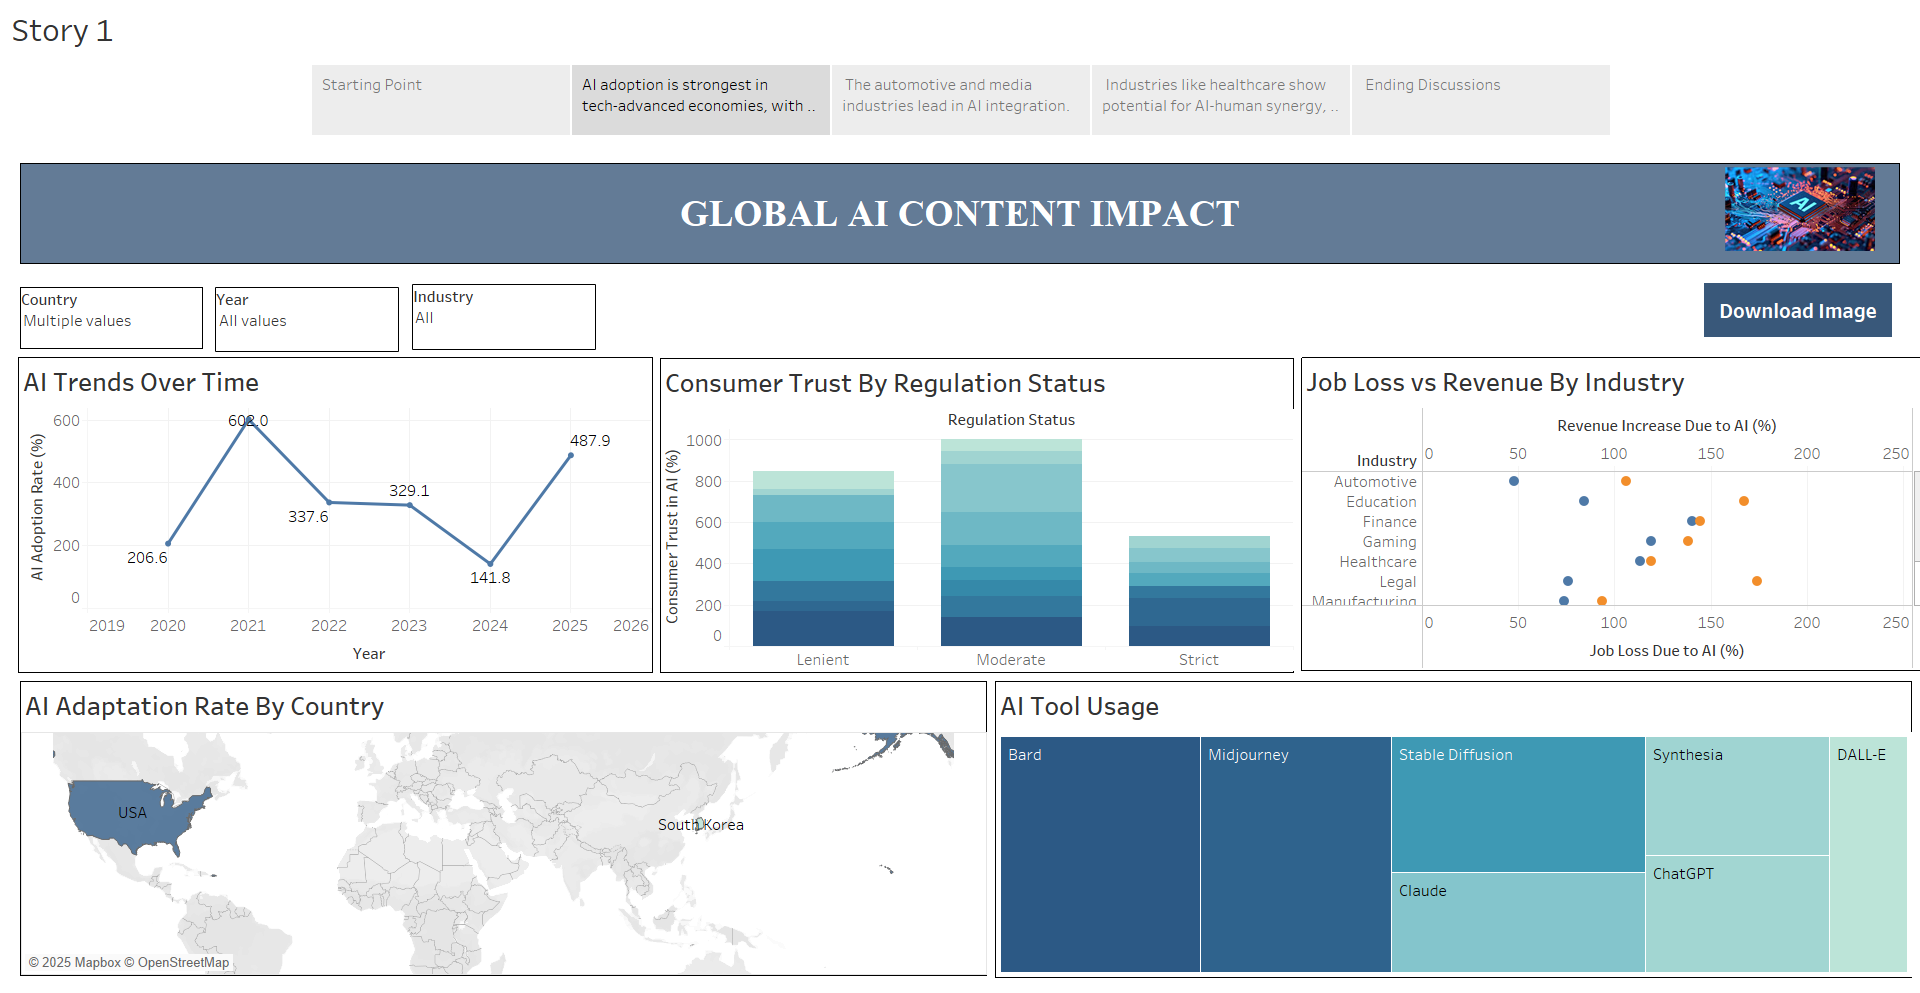

The page's visual inventory and layout, read from the dashboard file:
{"tool":"tableau","page":{"name":"Dashboard 1","canvas":[1000,1000],"units":"permille","ordinal":0},"visuals":[{"type":"title","box":[4.8,10,990.3,136.1]},{"type":"image","param":"Image/AI Image.jpg","box":[901.6,18.7,89.3,101.1]},{"type":"filter","title":"AI trends over time","param":"[federated.0b7zuio0kv5jrt15gwph313jt52r].[none:Industry:nk]","box":[212.4,159.8,96.6,78.7]},{"type":"filter","title":"AI adaptation rate by country","param":"[federated.0b7zuio0kv5jrt15gwph313jt52r].[none:Country:nk]","box":[6,163.6,96.6,73.7]},{"type":"filter","title":"AI trends over time","param":"[federated.0b7zuio0kv5jrt15gwph313jt52r].[none:Year:qk]","box":[108.6,163.6,96.6,77.4]},{"type":"worksheet","title":"AI trends over time","mark":"Automatic","rows":["AI Adoption Rate (%)"],"cols":["Year"],"box":[5.4,247.2,333.1,378.3]},{"type":"worksheet","title":"consumer trust by regulation status","mark":"Automatic","rows":["Consumer Trust in AI (%)"],"cols":["Regulation Status"],"box":[342.2,248.4,333.1,377]},{"type":"worksheet","title":"AI adaptation rate by country","mark":"Automatic","box":[6,635.5,508.2,353.3]},{"type":"worksheet","title":"AI Tool usage","mark":"Automatic","box":[518.4,635.5,481.6,355.8]}]}

Visuals, with their boxes on the dashboard's canvas, which has no fixed pixel size, in thousandths of its width and height (x1, y1, x2, y2). These are canvas units, not pixel positions in the 1920x993 screenshot, which may show the page scaled, cropped or inside an application window:
title: left=5, top=10, right=995, bottom=146
image: left=902, top=19, right=991, bottom=120
"AI trends over time" filter: left=212, top=160, right=309, bottom=238
"AI adaptation rate by country" filter: left=6, top=164, right=103, bottom=237
"AI trends over time" filter: left=109, top=164, right=205, bottom=241
"AI trends over time" worksheet: left=5, top=247, right=338, bottom=626
"consumer trust by regulation status" worksheet: left=342, top=248, right=675, bottom=625
"AI adaptation rate by country" worksheet: left=6, top=636, right=514, bottom=989
"AI Tool usage" worksheet: left=518, top=636, right=1000, bottom=991
